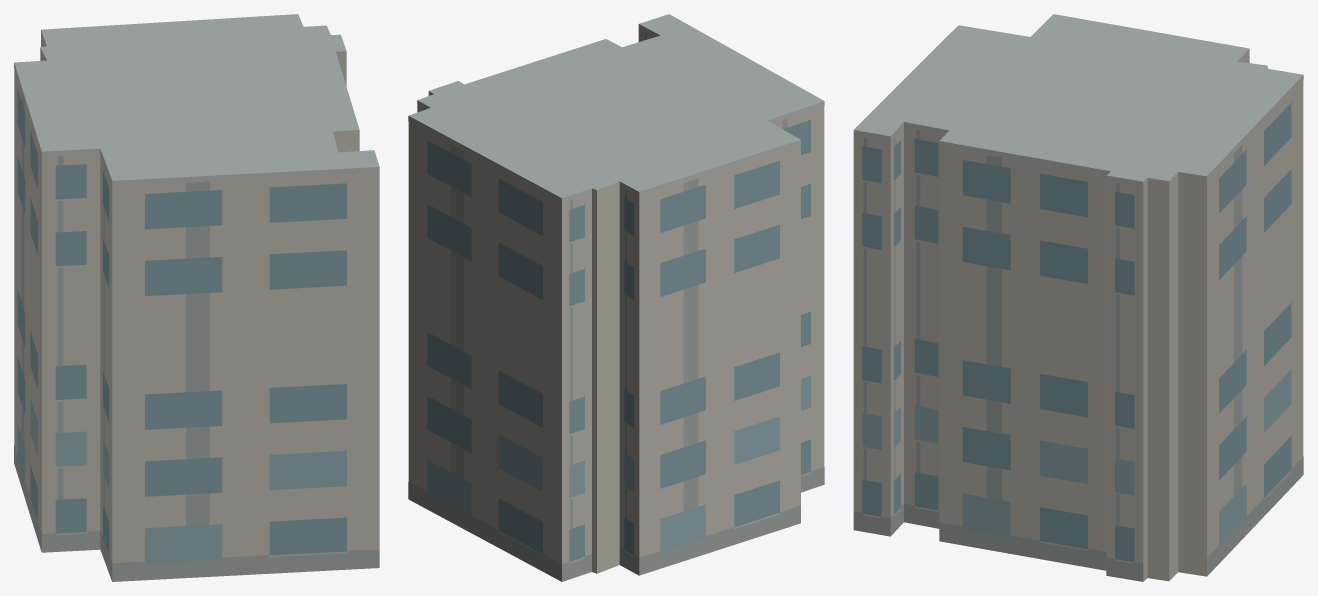
Rendered from survey-upis-32643765.glb.
The picture shows the model from 3 angles, left to right: view 1: azimuth 30°, elevation 25°; view 2: azimuth 150°, elevation 25°; view 3: azimuth 270°, elevation 25°; orthographic projection. The views are drawn at different scales.
Parts seen in each view (by area): view 1: survey-upis-32643765.tmp; view 2: survey-upis-32643765.tmp; view 3: survey-upis-32643765.tmp.
Part boxes in pixels (left/top/right/bottom): survey-upis-32643765.tmp: left=14, top=14, right=379, bottom=581; survey-upis-32643765.tmp: left=408, top=14, right=824, bottom=581; survey-upis-32643765.tmp: left=853, top=14, right=1303, bottom=581.
Bounding box in the file's own units: 15.28 × 17 × 17.33.
